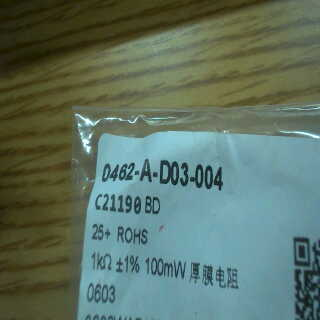1kR: (86, 246, 114, 274)
